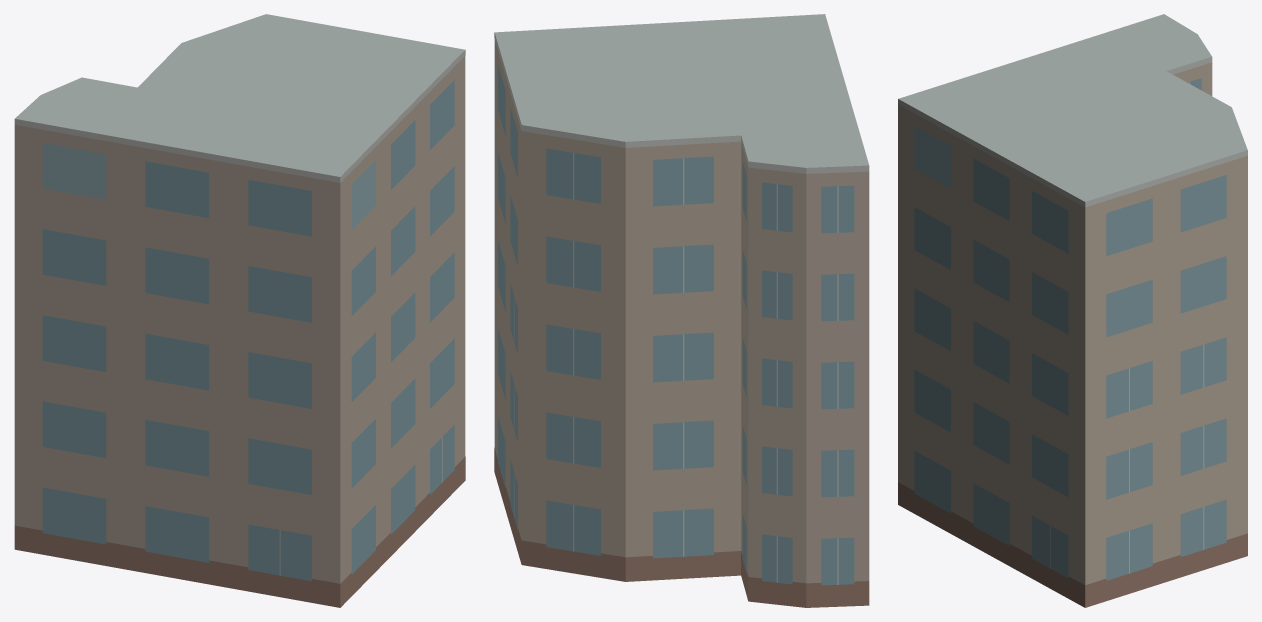
Rendered from survey-upis-32952672.glb.
3 views of the same model, side by side, from view 1: azimuth 30°, elevation 25°; view 2: azimuth 150°, elevation 25°; view 3: azimuth 270°, elevation 25° (orthographic). The views are drawn at different scales.
Visible parts, largest first — view 1: survey-upis-32952672.tmp; view 2: survey-upis-32952672.tmp; view 3: survey-upis-32952672.tmp.
Part boxes in pixels (<box>): survey-upis-32952672.tmp: <box>14,14,465,607</box>; survey-upis-32952672.tmp: <box>494,14,869,607</box>; survey-upis-32952672.tmp: <box>898,14,1247,607</box>.
Bounding box in the file's own units: 17.69 × 17.8 × 13.91.
